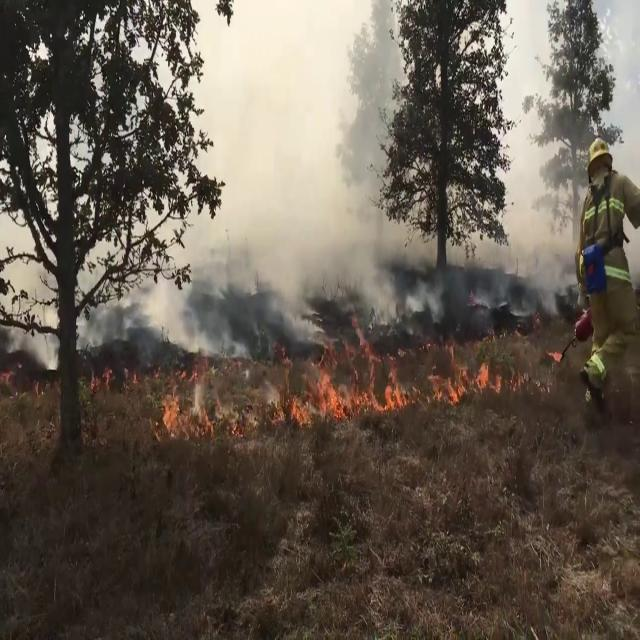Fire: (290, 307, 412, 424), (154, 346, 227, 438), (430, 329, 502, 403)
Smoke: (181, 0, 421, 325)
